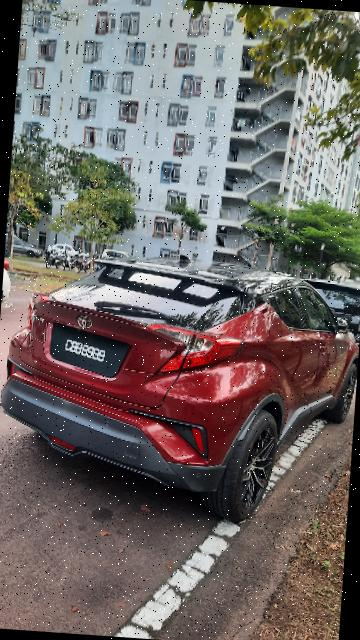License_Plate: (40, 319, 139, 382)
car: (1, 241, 360, 531)
